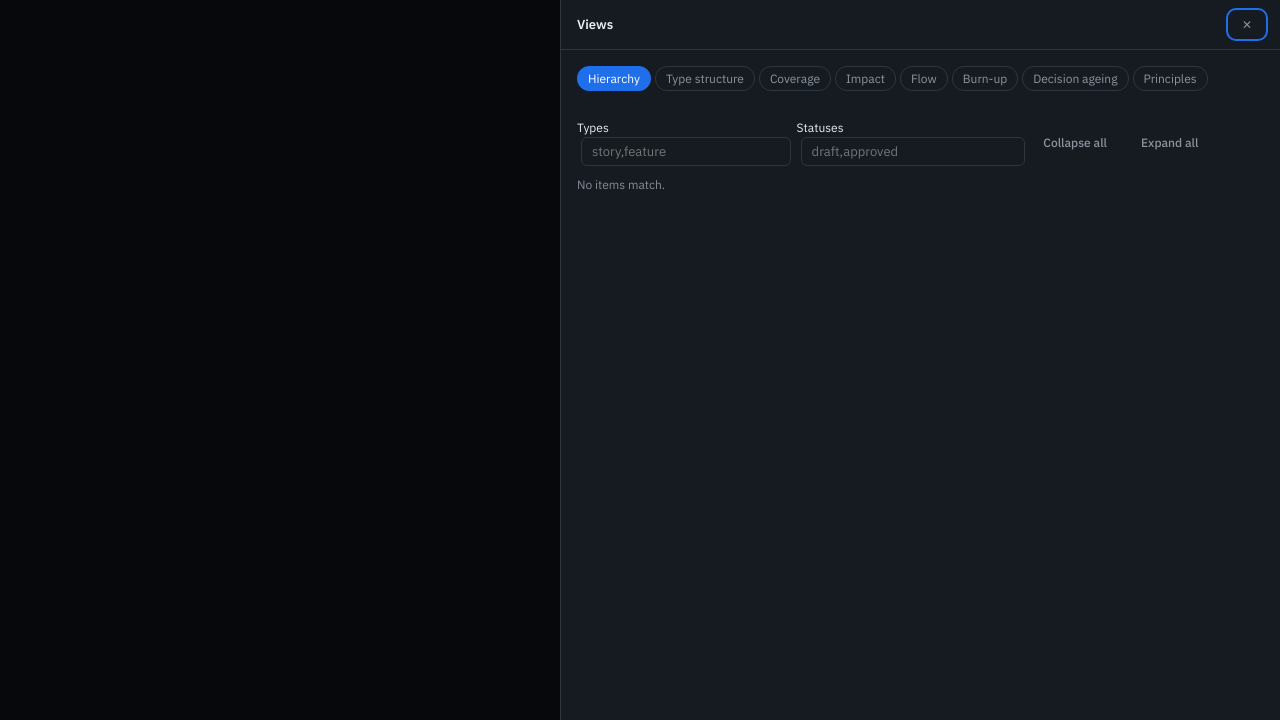
Views panel › shows an empty message and a table form of coverage
The width and height of the screenshot is (1280, 720).
expect the text "No items match." is shown: met, box x1=577 y1=177 x2=665 y2=192
Click the tab "Coverage" at (795, 78), box x1=759 y1=66 x2=831 y2=91
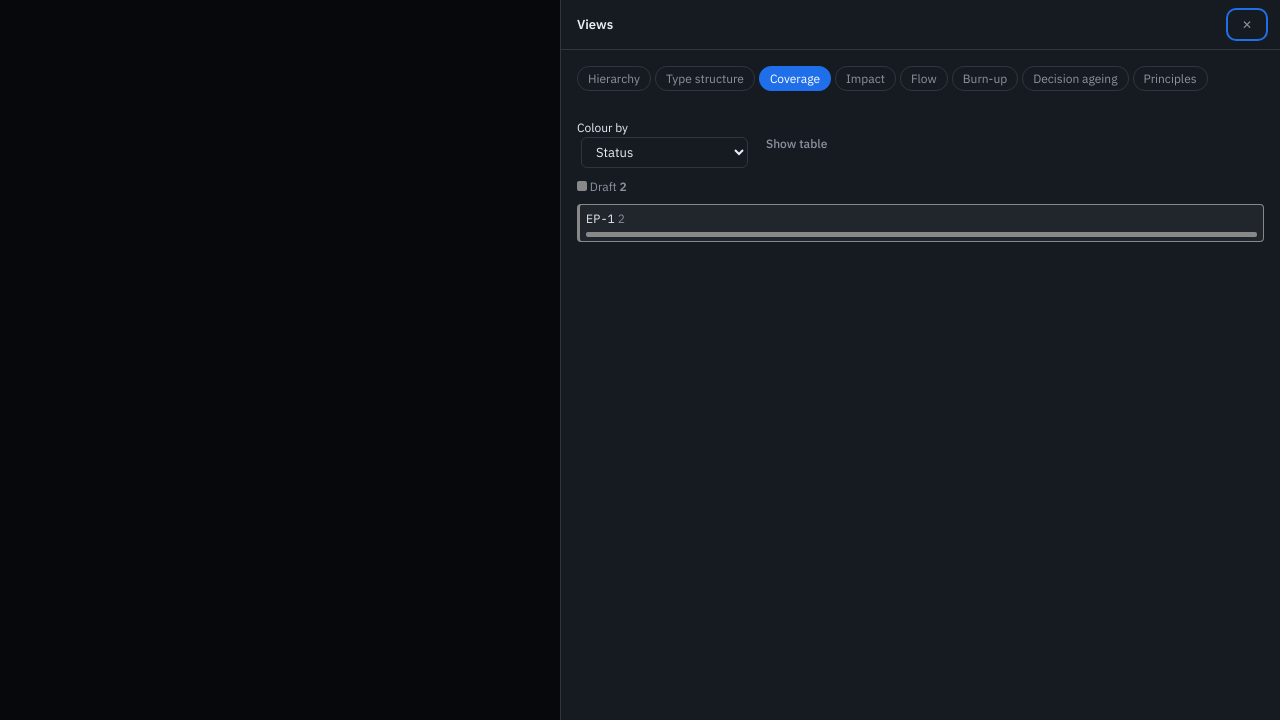
expect the element with test id "coverage-cell" is shown: met, box x1=577 y1=204 x2=1264 y2=242
Click the button "Show table" at (797, 144), box x1=754 y1=131 x2=839 y2=156
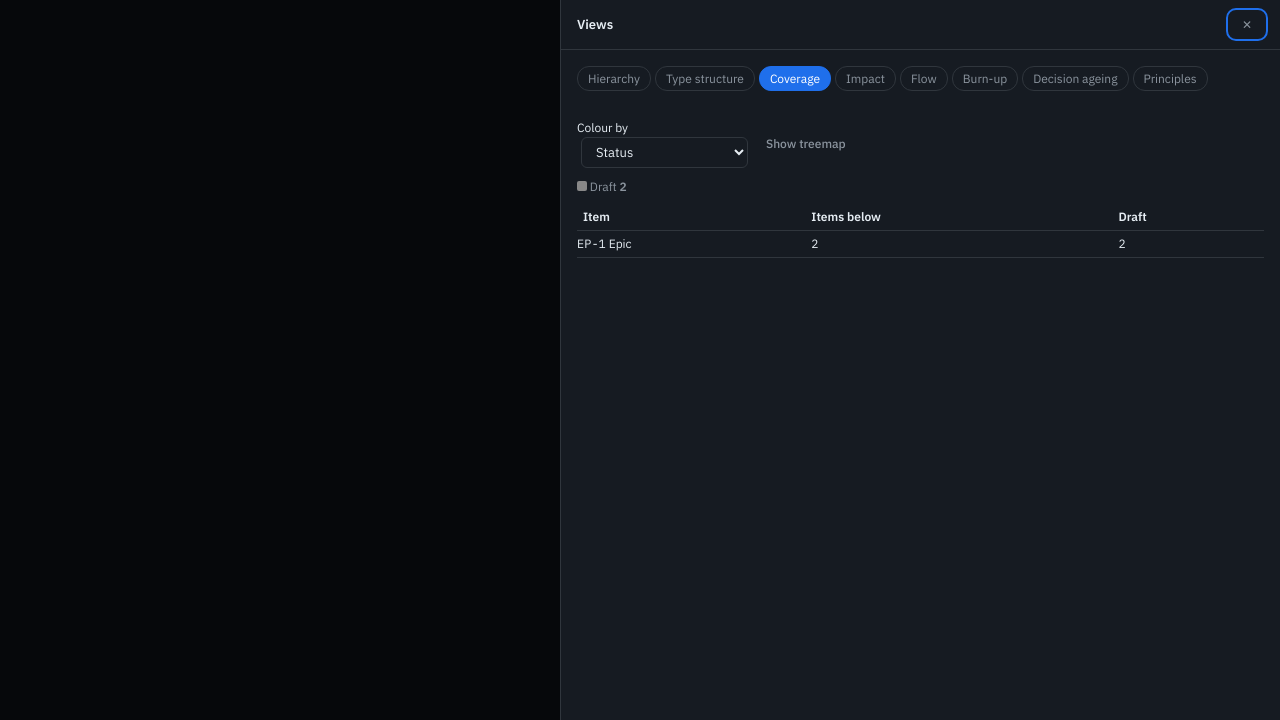
expect the table with test id "coverage-table" shows "EP-1": met, box x1=577 y1=236 x2=632 y2=251
